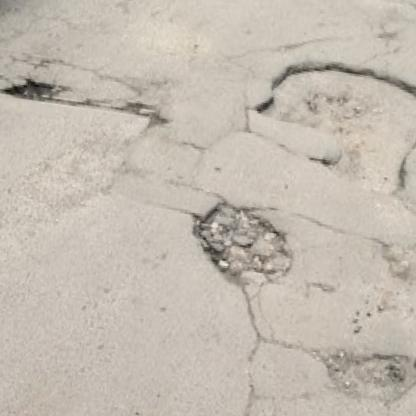pothole: (247, 50, 416, 205), (186, 193, 303, 296), (311, 344, 416, 411), (114, 98, 172, 129), (1, 78, 63, 105)
